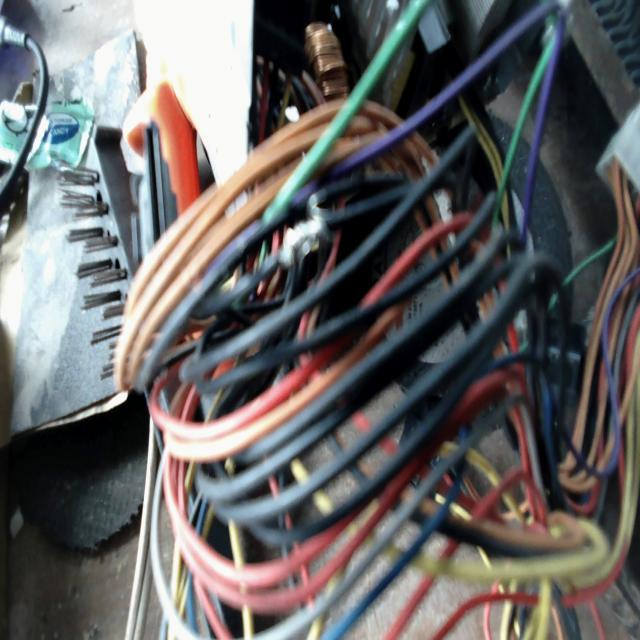-: (276, 198, 325, 263)
